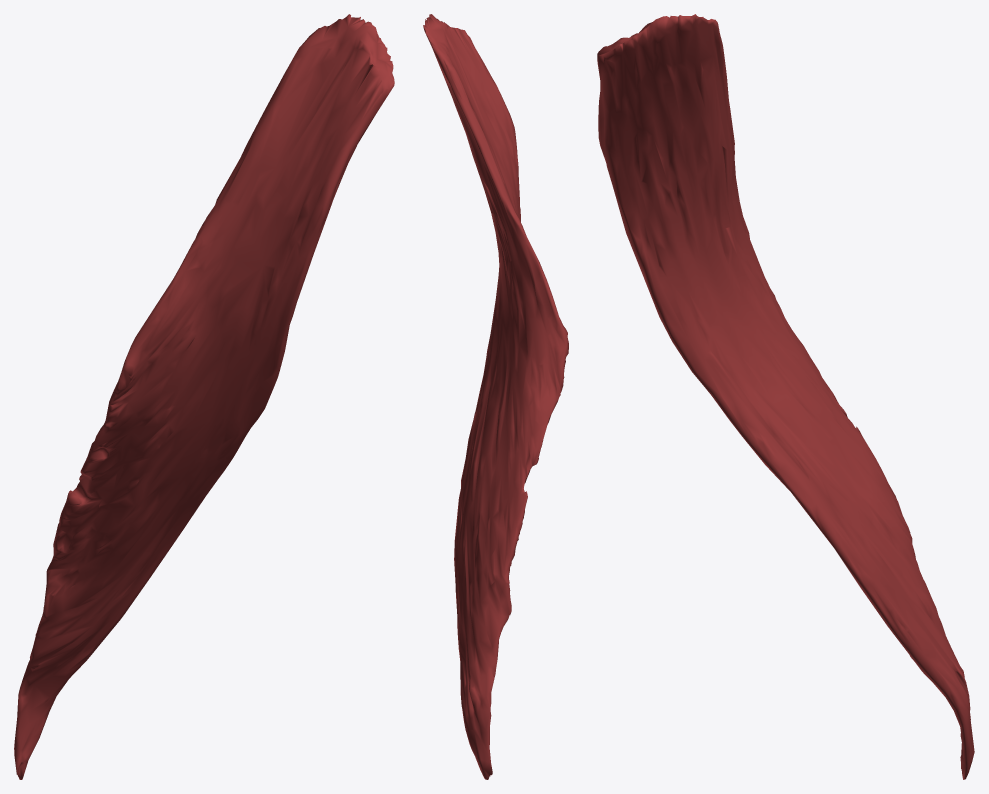
Rendered from splenius-capitis-muscle-l.glb.
3 views of the same model, side by side, from view 1: azimuth 30°, elevation 25°; view 2: azimuth 150°, elevation 25°; view 3: azimuth 270°, elevation 25° (orthographic). The views are drawn at different scales.
Visible parts, largest first — view 1: Splenius capitis muscle.l; view 2: Splenius capitis muscle.l; view 3: Splenius capitis muscle.l.
Boxes of the visible parts, <box> form: Splenius capitis muscle.l: <box>14,14,394,779</box>; Splenius capitis muscle.l: <box>423,14,568,779</box>; Splenius capitis muscle.l: <box>597,14,974,779</box>.
Bounding box in the file's own units: 0.0613 × 0.2156 × 0.0843.
